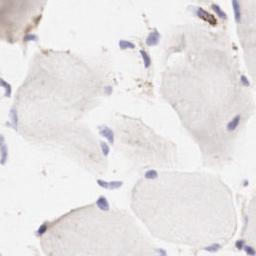nucleus: (96, 124, 114, 144), (95, 178, 124, 190), (141, 49, 153, 69), (145, 30, 160, 45), (119, 39, 137, 51), (98, 139, 110, 157), (228, 114, 240, 131), (1, 137, 8, 166), (95, 196, 109, 210), (1, 79, 12, 96), (213, 5, 227, 18), (201, 243, 223, 251), (11, 110, 18, 131), (233, 1, 240, 22), (145, 169, 158, 179), (246, 245, 256, 256), (26, 34, 38, 42), (240, 76, 250, 85), (104, 86, 113, 95), (195, 7, 203, 16), (159, 247, 167, 256), (235, 241, 245, 248), (38, 225, 45, 233), (243, 179, 248, 185)
positive_cell: (190, 5, 218, 27), (35, 220, 50, 235), (22, 29, 37, 41)
